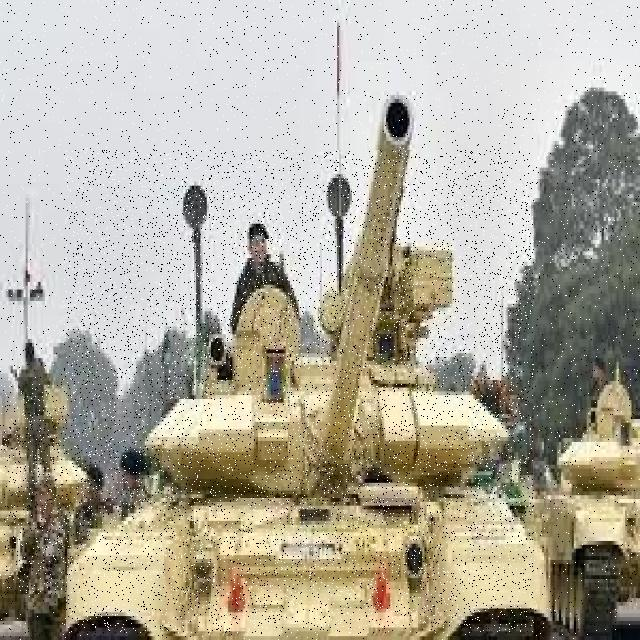MIL_MBT: (64, 151, 534, 633), (540, 397, 638, 636), (4, 381, 78, 594)
